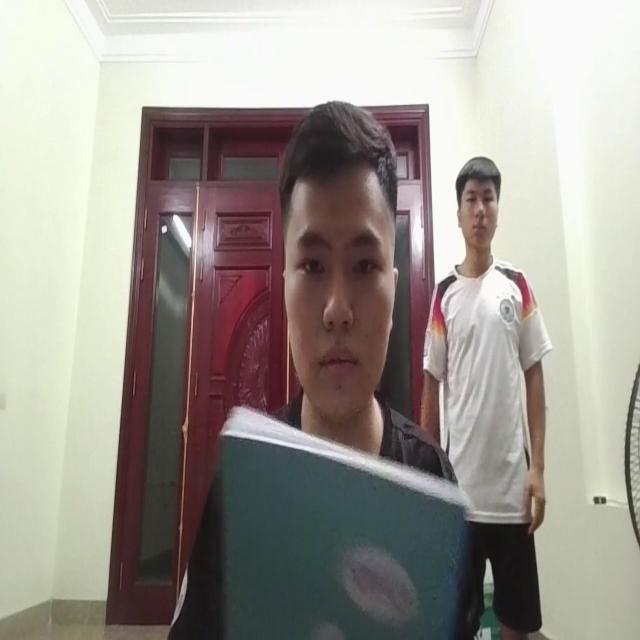book: (209, 393, 465, 640)
extra_person: (419, 150, 550, 632)
student: (274, 87, 404, 445)
